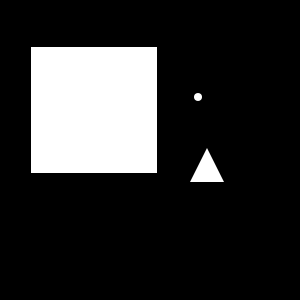circle: (31, 47, 157, 173)
rectangle: (194, 93, 202, 101)
triangle: (190, 148, 224, 182)
